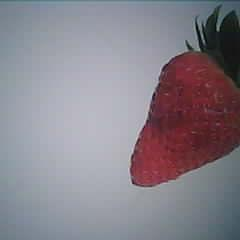straw-ripe: (130, 54, 240, 185)
